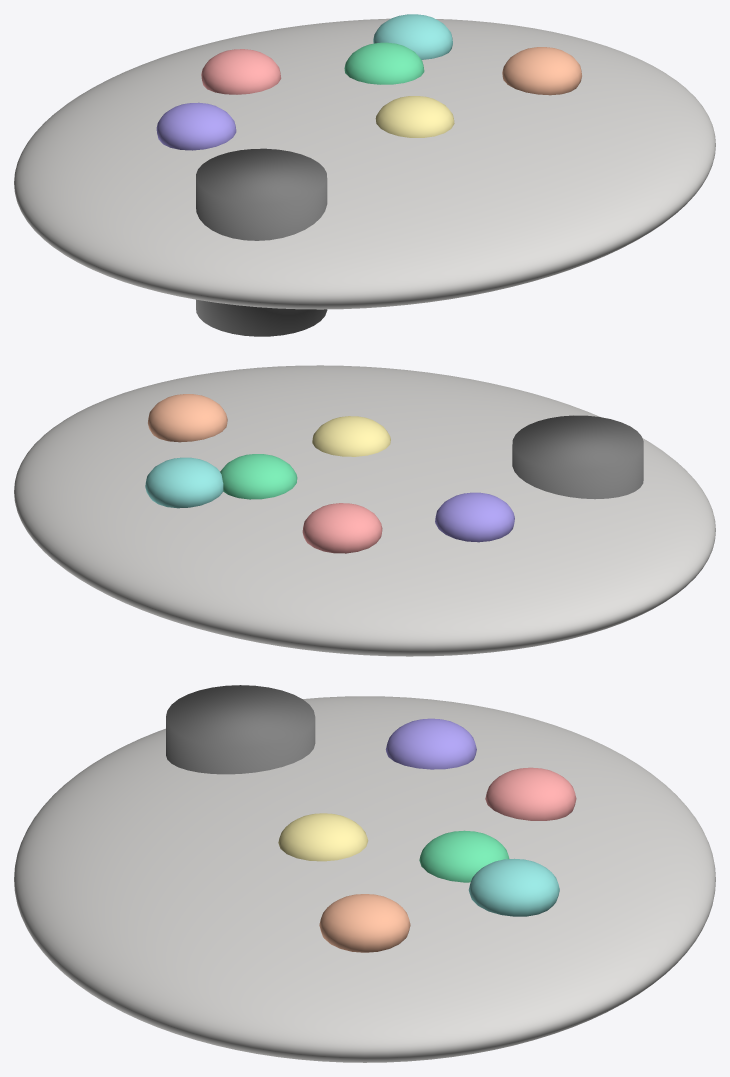
Rendered from design.glb.
3 renders of one model, top to bottom at view 1: azimuth 30°, elevation 25°; view 2: azimuth 150°, elevation 25°; view 3: azimuth 270°, elevation 25°, orthographic. The views are drawn at different scales.
Visible parts, largest first — view 1: Sphere, Cylinder, Sphere.005, Sphere.004, Sphere.001, Sphere.006, Sphere.003, Sphere.002; view 2: Sphere, Cylinder, Sphere.001, Sphere.002, Sphere.004, Sphere.005, Sphere.006, Sphere.003; view 3: Sphere, Cylinder, Sphere.005, Sphere.002, Sphere.001, Sphere.004, Sphere.003, Sphere.006.
Boxes of the visible parts, bbox=[...] form: Sphere: bbox=[14, 18, 715, 309]; Cylinder: bbox=[196, 148, 327, 336]; Sphere.005: bbox=[502, 47, 581, 95]; Sphere.004: bbox=[156, 102, 236, 150]; Sphere.001: bbox=[201, 49, 281, 94]; Sphere.006: bbox=[344, 42, 424, 84]; Sphere.003: bbox=[375, 96, 454, 137]; Sphere.002: bbox=[373, 14, 452, 59]; Sphere: bbox=[14, 365, 715, 656]; Cylinder: bbox=[512, 415, 643, 499]; Sphere.001: bbox=[302, 503, 382, 553]; Sphere.002: bbox=[145, 457, 223, 508]; Sphere.004: bbox=[435, 492, 514, 542]; Sphere.005: bbox=[148, 394, 227, 442]; Sphere.006: bbox=[220, 454, 297, 499]; Sphere.003: bbox=[312, 416, 390, 456]; Sphere: bbox=[14, 696, 715, 1062]; Cylinder: bbox=[166, 685, 315, 774]; Sphere.005: bbox=[319, 894, 410, 952]; Sphere.002: bbox=[468, 858, 559, 916]; Sphere.001: bbox=[485, 767, 576, 820]; Sphere.004: bbox=[385, 718, 476, 769]; Sphere.003: bbox=[278, 813, 368, 861]; Sphere.006: bbox=[419, 830, 509, 882].
Bounding box in the file's own units: 0.9955 × 0.203 × 0.8462.
